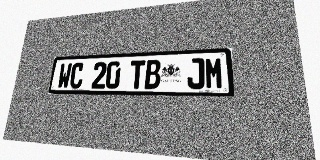0: (105, 61, 121, 89)
2: (91, 62, 107, 89)
B: (144, 59, 161, 89)
C: (69, 63, 85, 89)
J: (187, 58, 205, 89)
M: (205, 57, 224, 89)
T: (129, 60, 145, 89)
W: (57, 63, 72, 89)
